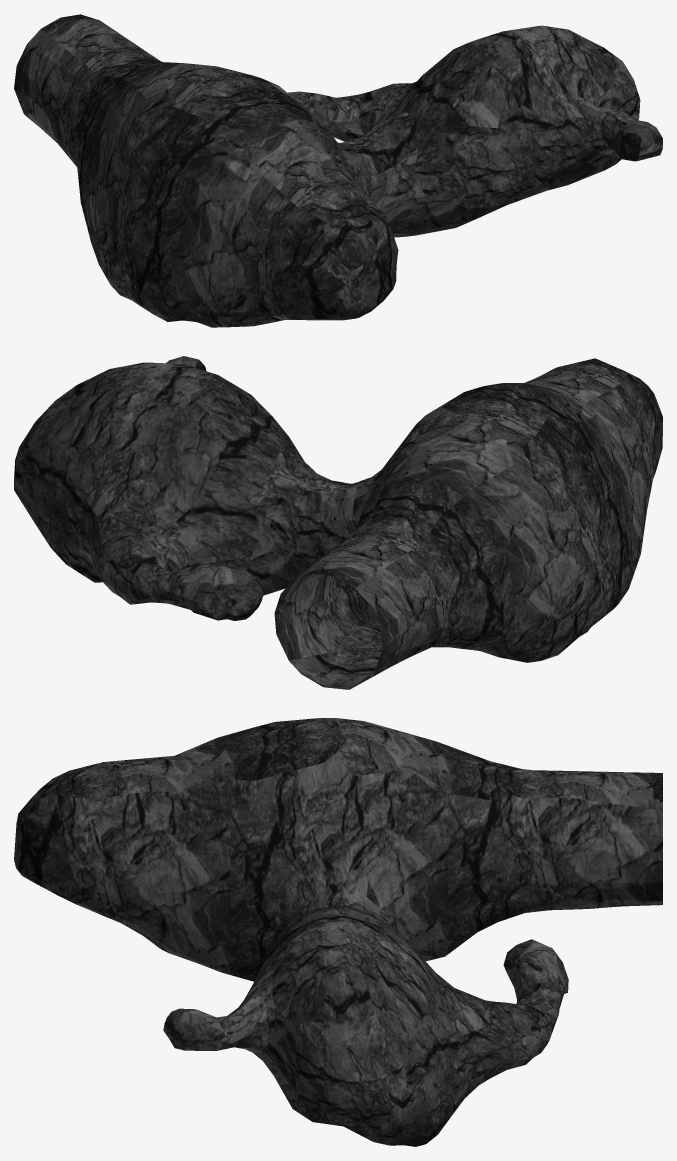
File: Boss_Cave.fbx
3 views of the same model, one above another, from view 1: azimuth 30°, elevation 25°; view 2: azimuth 150°, elevation 25°; view 3: azimuth 270°, elevation 25° (orthographic). The views are drawn at different scales.
Visible parts, largest first — view 1: Cylinder; view 2: Cylinder; view 3: Cylinder.
Part boxes in pixels (left/top/right/bottom): Cylinder: left=14, top=14, right=662, bottom=327; Cylinder: left=14, top=356, right=662, bottom=689; Cylinder: left=14, top=718, right=662, bottom=1146.
Bounding box in the file's own units: 3182 × 1217 × 3059.
